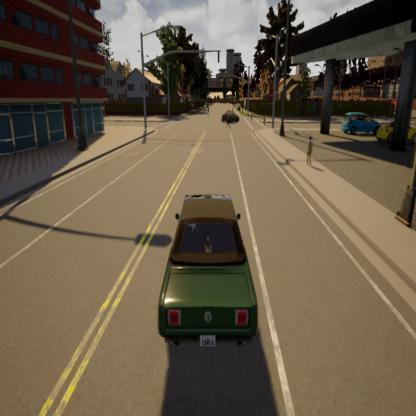Cars: (159, 194, 257, 348), (340, 111, 382, 136), (377, 121, 416, 145), (221, 110, 238, 125)
Pedestrian: (306, 134, 314, 168), (226, 108, 231, 129), (206, 102, 210, 118)
